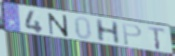0: (73, 16, 93, 41)
4: (24, 10, 45, 35)
H: (94, 18, 122, 45)
N: (48, 12, 70, 39)
P: (121, 23, 143, 47)
T: (147, 26, 167, 52)
